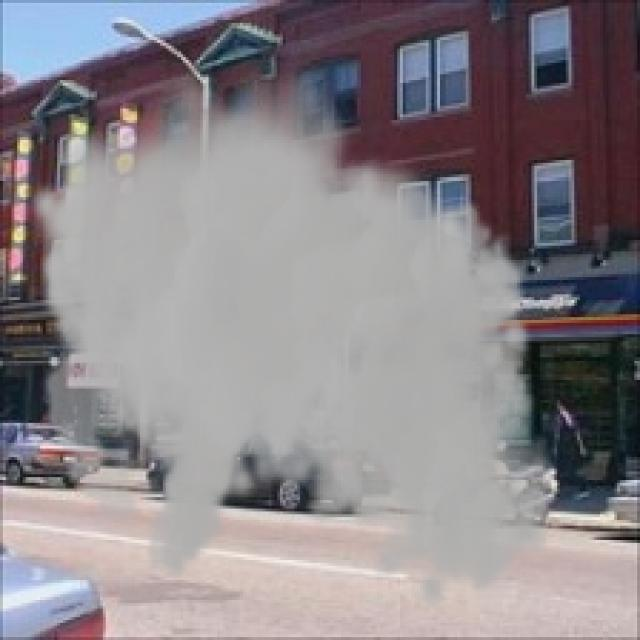Smoke: (25, 55, 558, 614)
